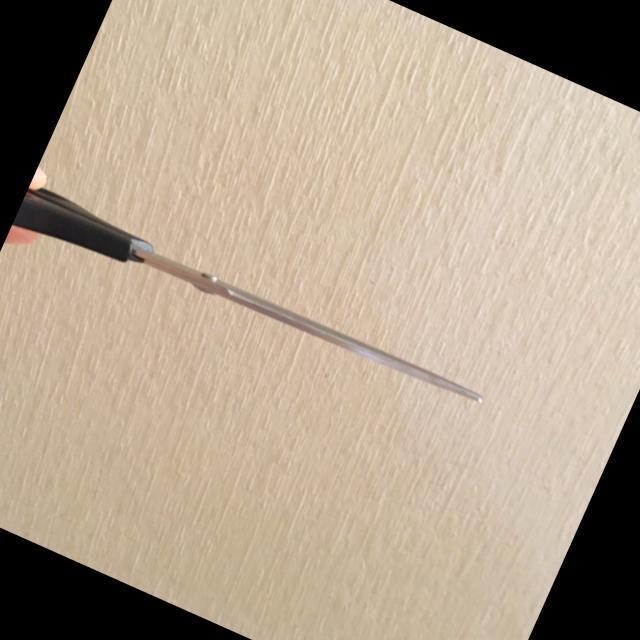scissors: (32, 190, 494, 424)
